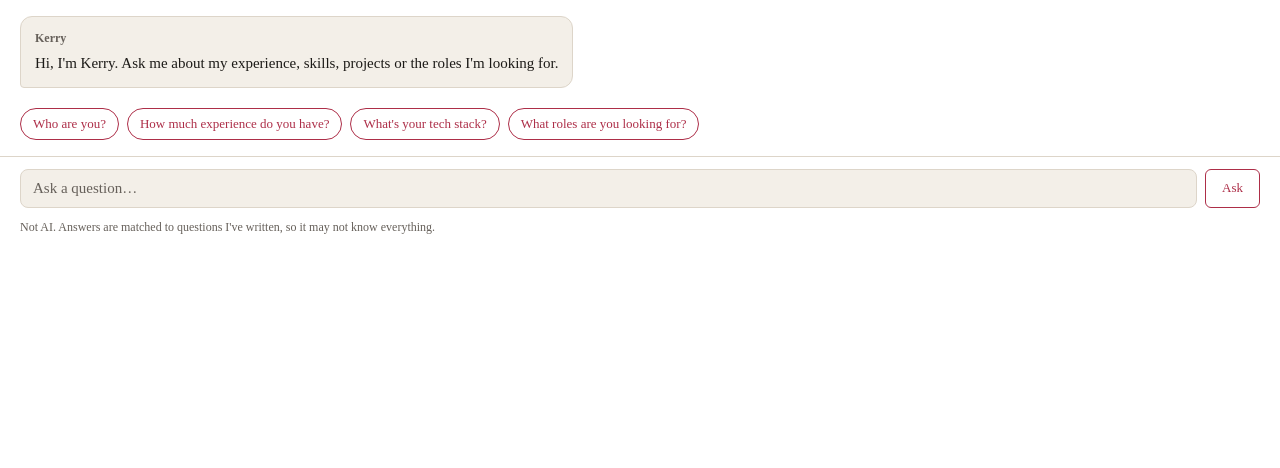
Test: AskKerryChat › submits with the Enter key
Type "tech stack" into the field named "Your question".
click(608, 188); type("tech stack")  # box [20, 169, 1197, 208]
Then press Enter
Wait 500 ms
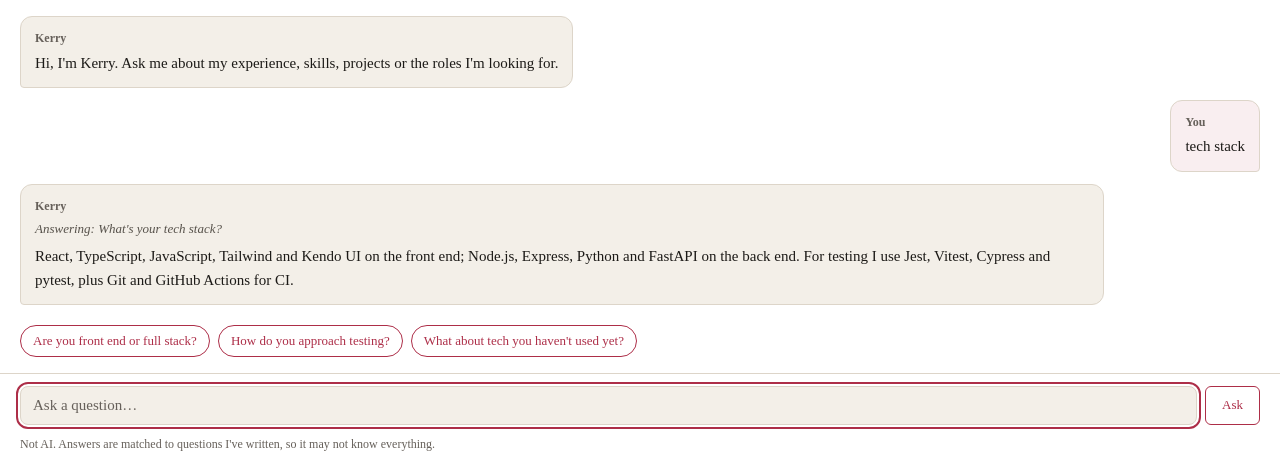
Expected: the text "React, TypeScript, JavaScript, Tailwind and Kendo UI on the front end; Node.js, Express, Python and FastAPI on the back " is shown, [35, 248, 1050, 288]
